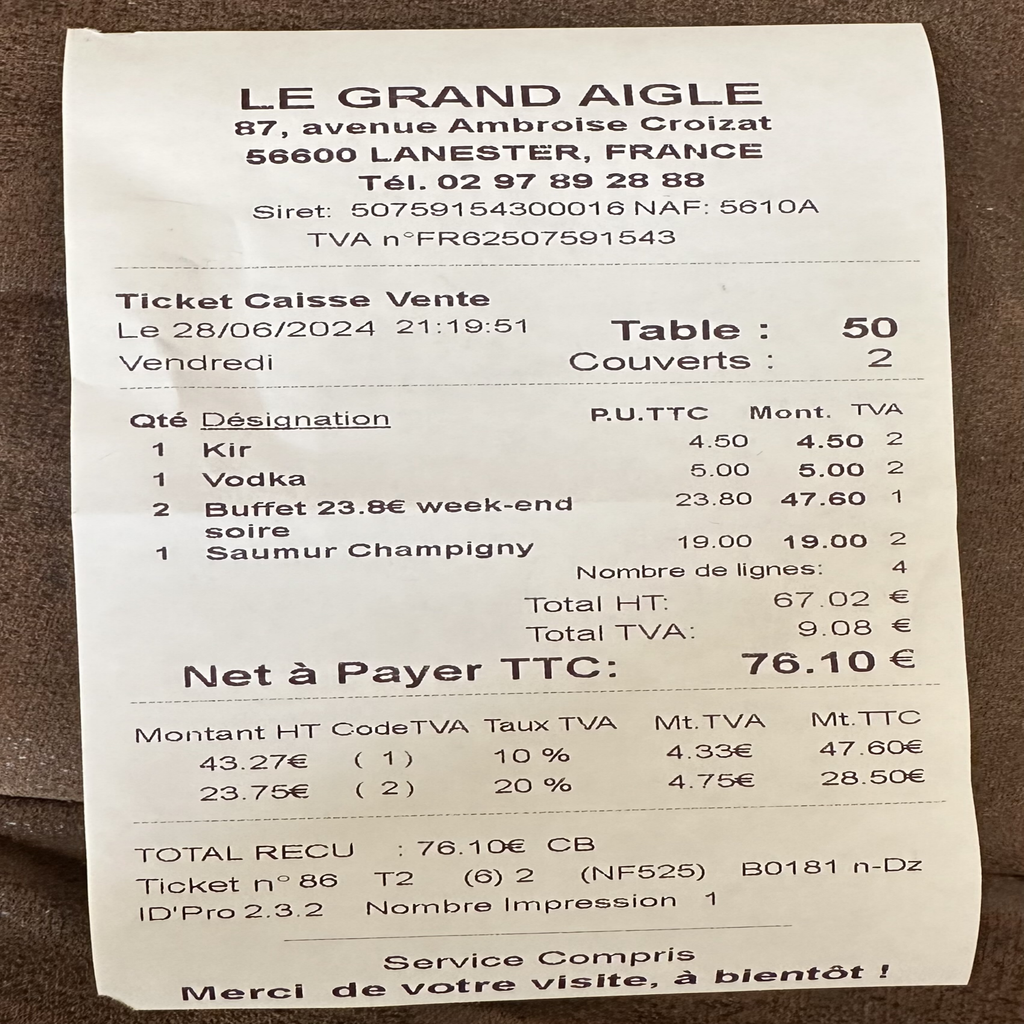recipt: (67, 21, 986, 1009)
